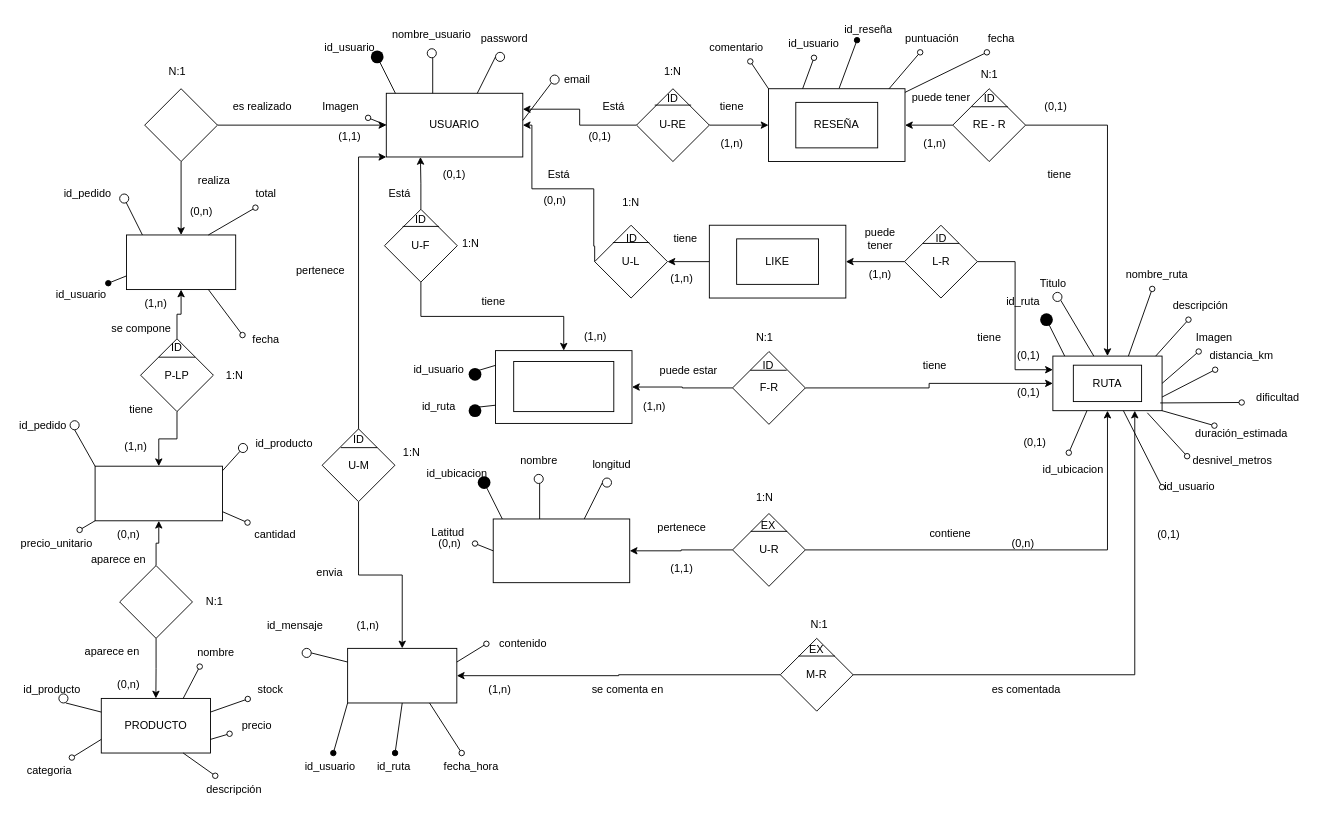
Some shapes in this 1321 by 818 pixel diagram are drawn without their labels. The shapes that lost their labels are listed below. From the top down, each one's centre as x and y in pixels, then its label:
At pixel 180 125: "U-P".
At pixel 181 262: "PEDIDO".
At pixel 563 386: "FAVORITO".
At pixel 158 493: "LINEA_PEDIDO".
At pixel 561 550: "UBICACION".
At pixel 155 601: "LP-PR".
At pixel 402 675: "MENSAJE".
